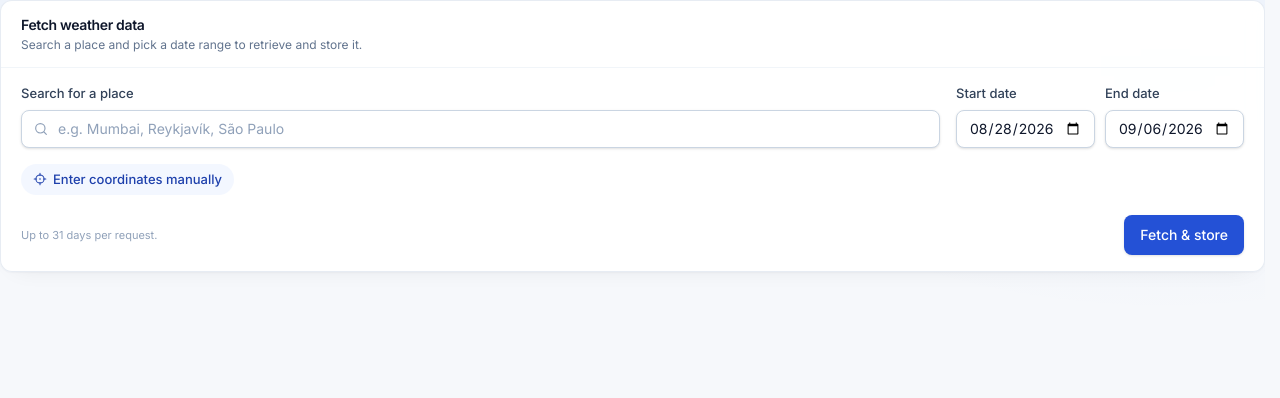
Test: MainFetchPanel › reveals coordinates and blocks submission on an invalid latitude
Click the button "Enter coordinates manually" at point(128, 179), box [21,164,234,195]
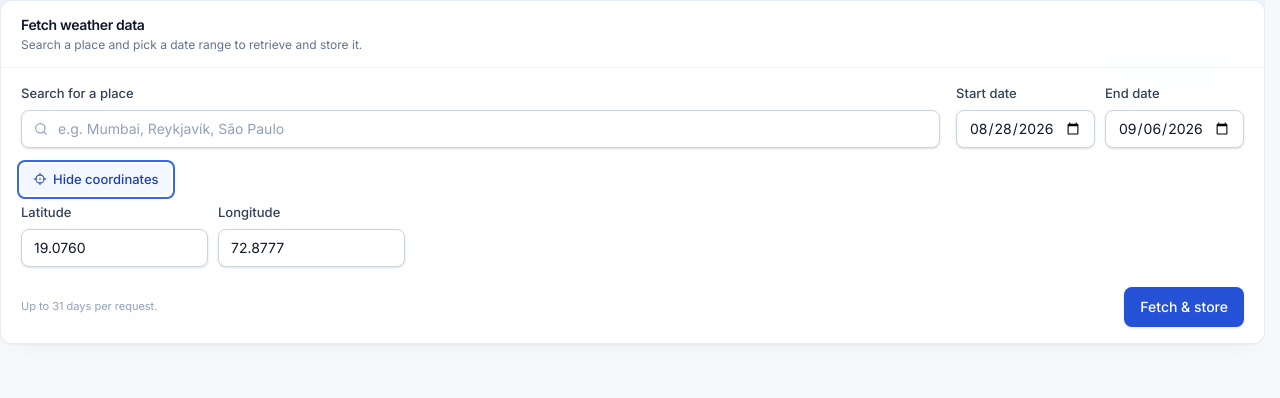
Replace the text in the field labelled "Latitude" with "999" at point(114, 248), box [21,228,208,266]
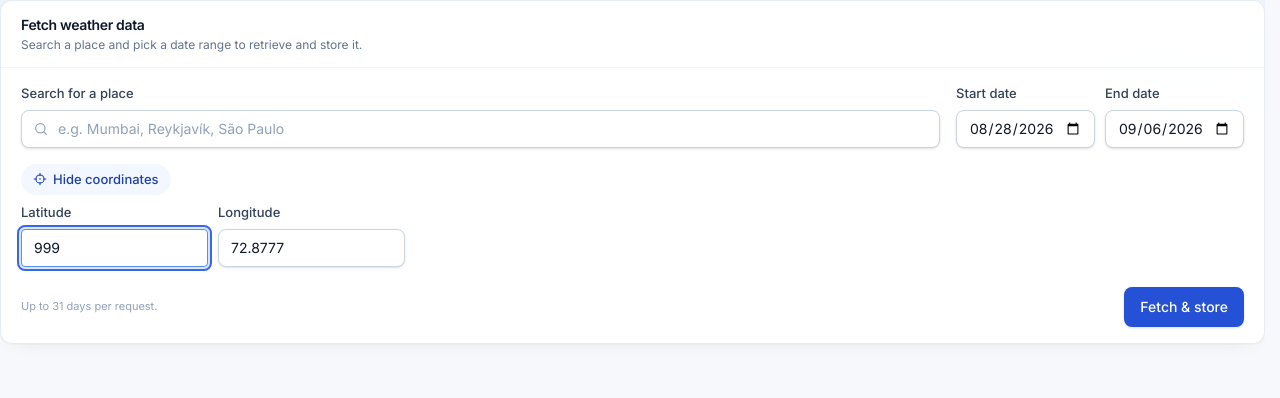
Click the button "Fetch & store" at point(1184, 306), box [1124,286,1244,326]
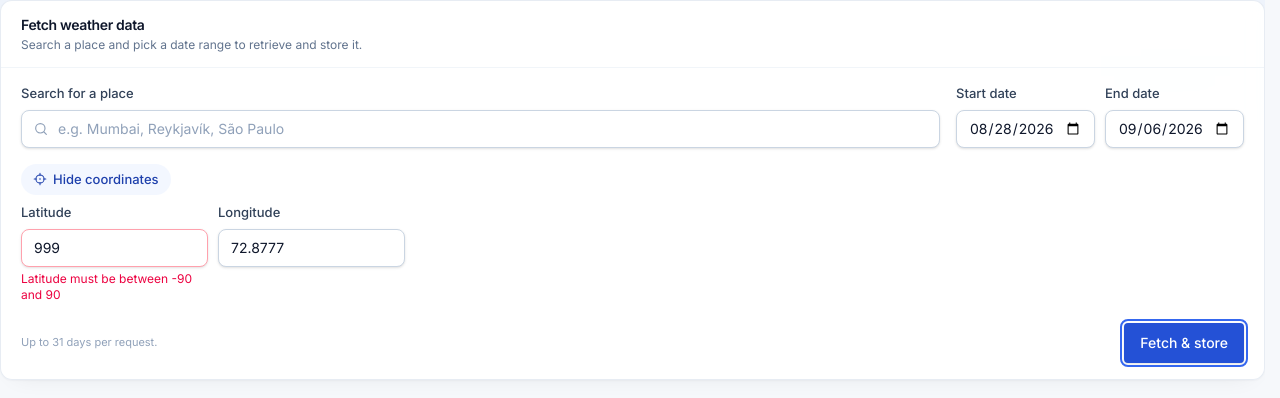
Now the text "Latitude must be between -90 and 90" is shown, box [21,270,208,302]
